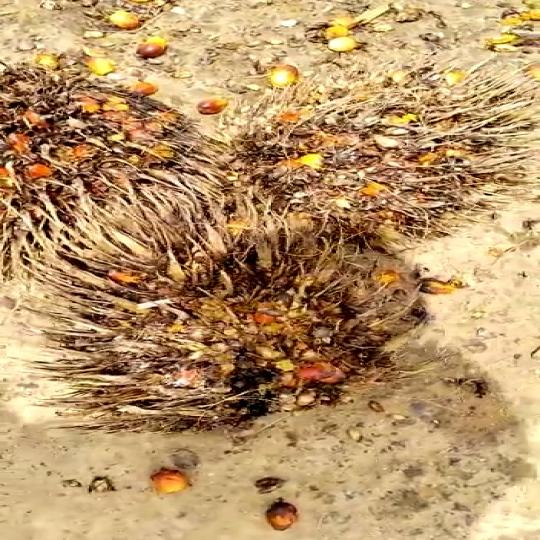terlalu masak: (32, 197, 387, 421), (220, 90, 502, 222)
